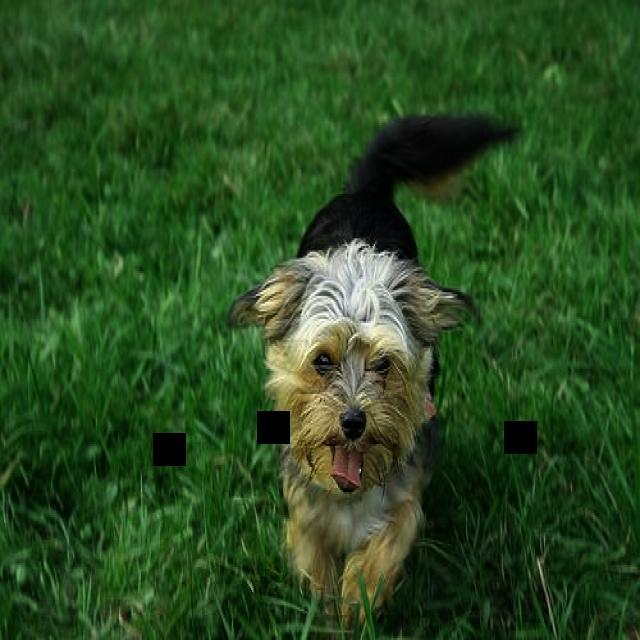adult_dog: (221, 116, 529, 619)
